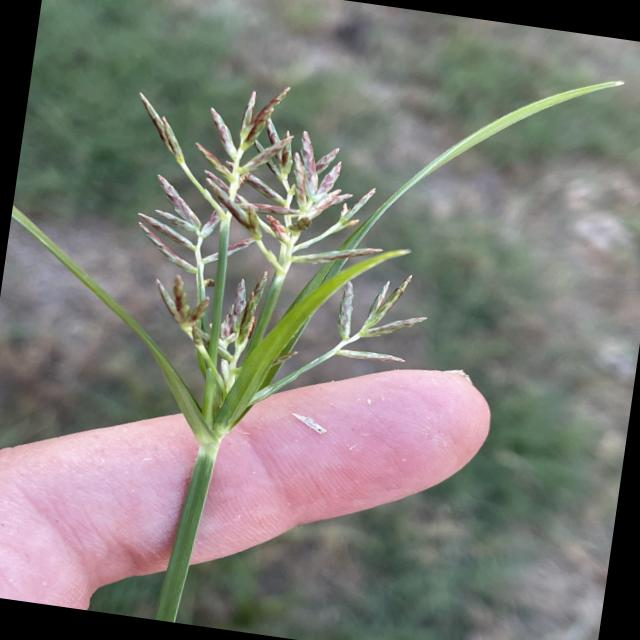cyperus: (73, 54, 470, 473)
